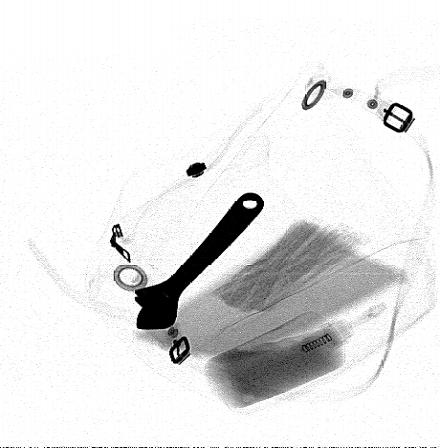Wrench: (131, 190, 265, 331)
